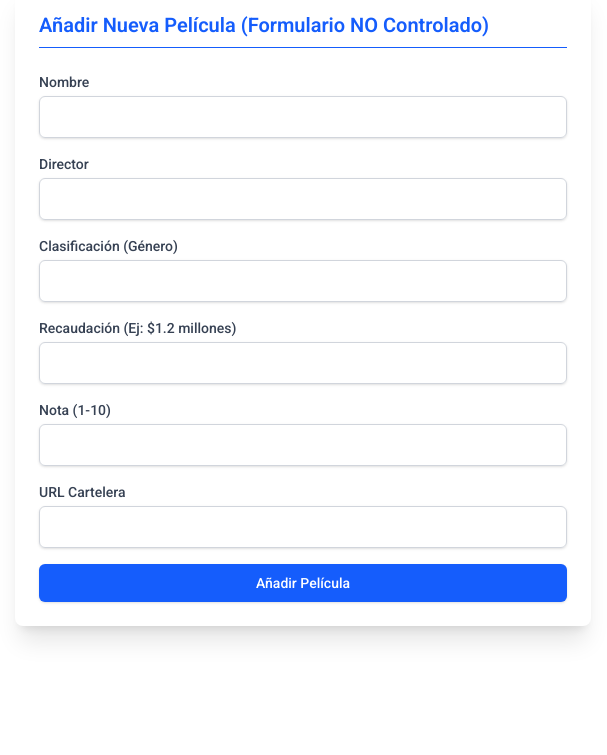
it: FormularioPeliculaNoControlado › valida los datos solo al hacer clic en el botón de enviar
Note: Act 1: escribimos un valor inválido (vacío)
Clear the field labelled "Nombre" at (303, 117), box [39,96,567,138]
Expected: the text "El nombre es obligatorio" is not shown
Note: Act 2: pulsamos el botón de enviar
Click the button "Añadir Película".
click(303, 583)  # box [39,564,567,602]
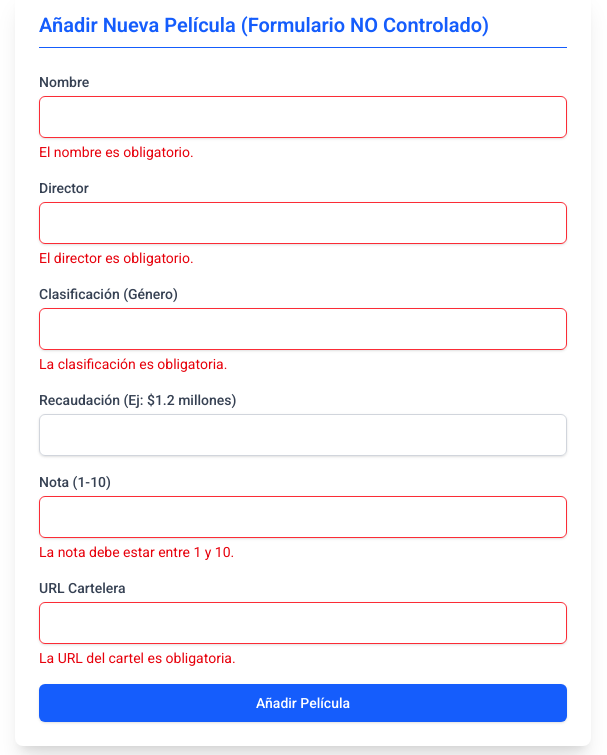
Now the text "El nombre es obligatorio." is shown, box [39,144,194,160]
